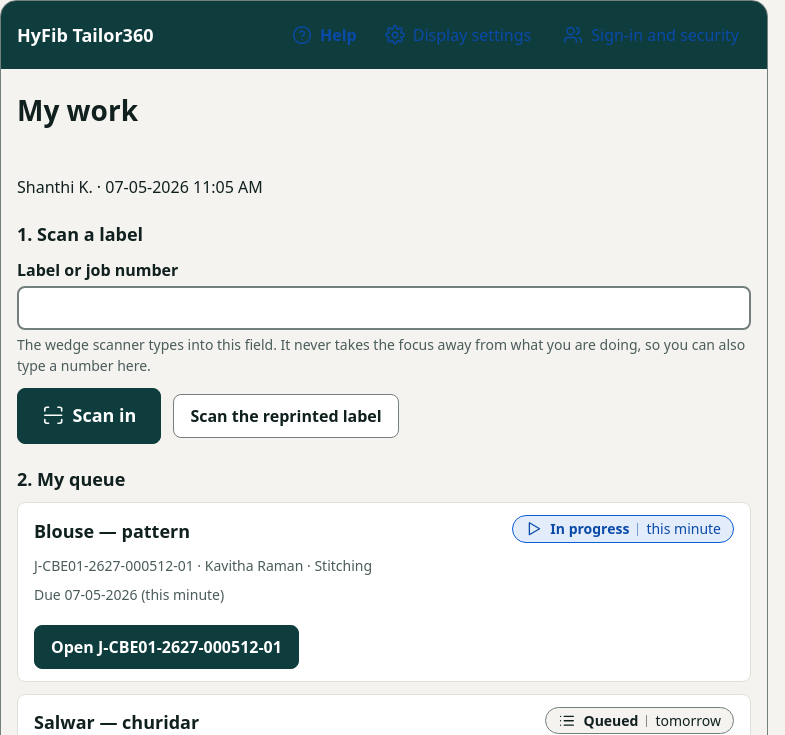
Test: A11Y-RJ-03 — Tailor: scan to queue › tells a superseded label apart from an unknown one, and says which rule refused it
This screenshot has width=785, height=735.
Click the button "Scan the reprinted label" at point(286, 416), box left=173, top=394, right=399, bottom=438
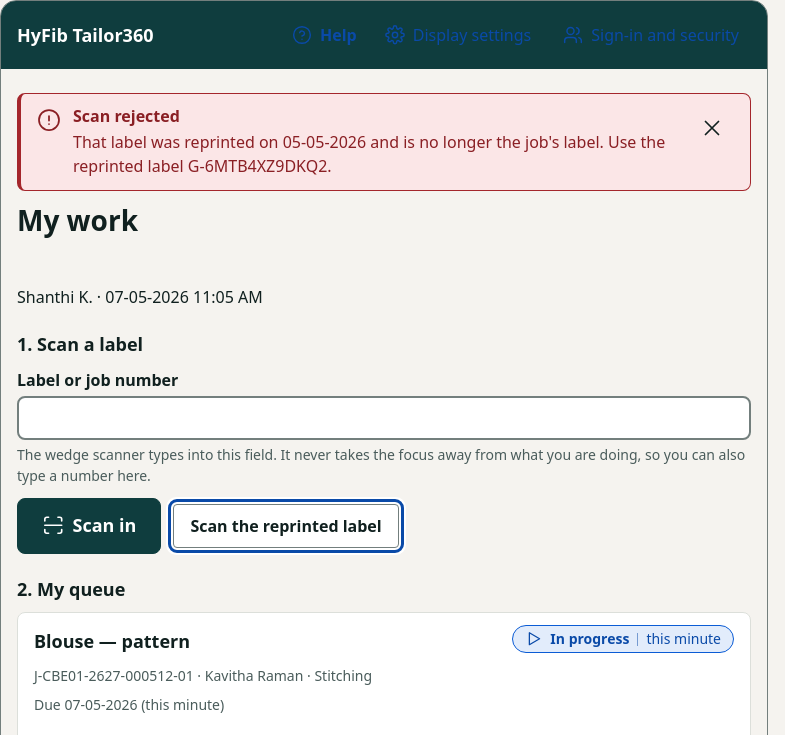
Result: the text "reprinted" shows "G-6MTB4XZ9DKQ2" at left=73, top=131, right=665, bottom=177
Type "G-NOTAREALLABEL" into the field labelled "Label or job number" at point(384, 418), box left=17, top=396, right=751, bottom=440
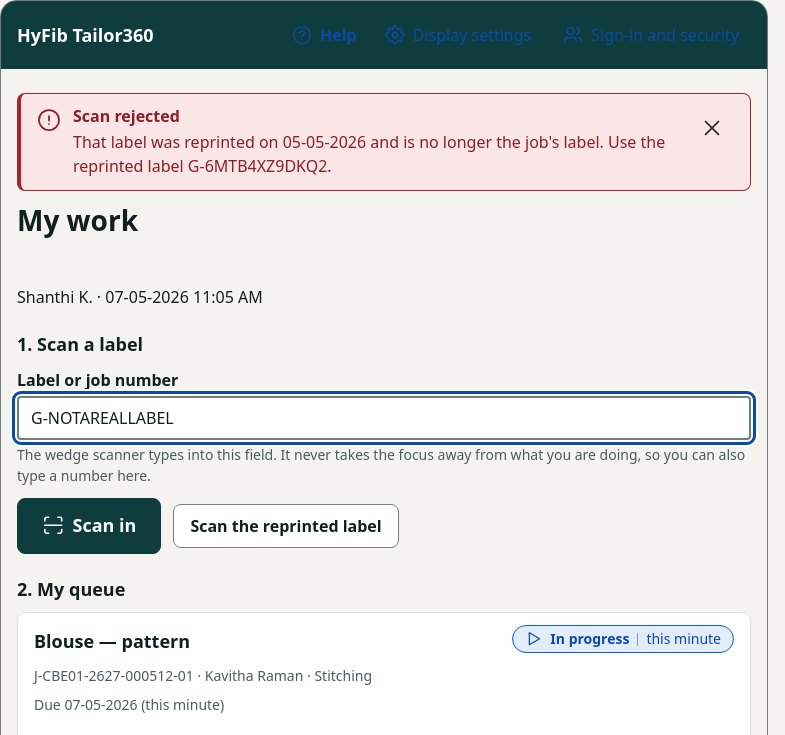
Click the button "Scan in" at point(89, 526), box left=17, top=498, right=161, bottom=554
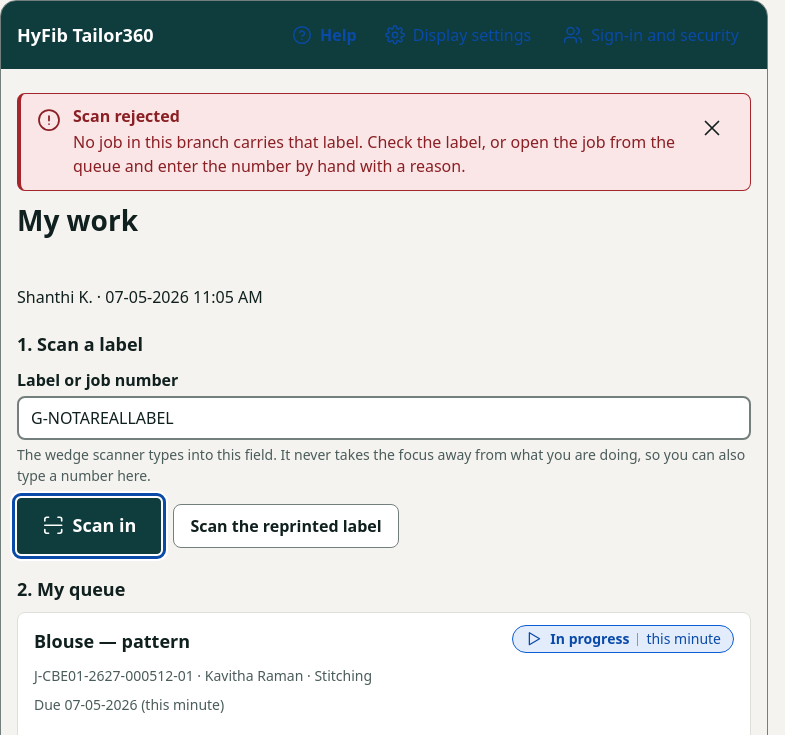
Result: the text "No job in this branch carries that label" is shown at left=73, top=131, right=675, bottom=177
